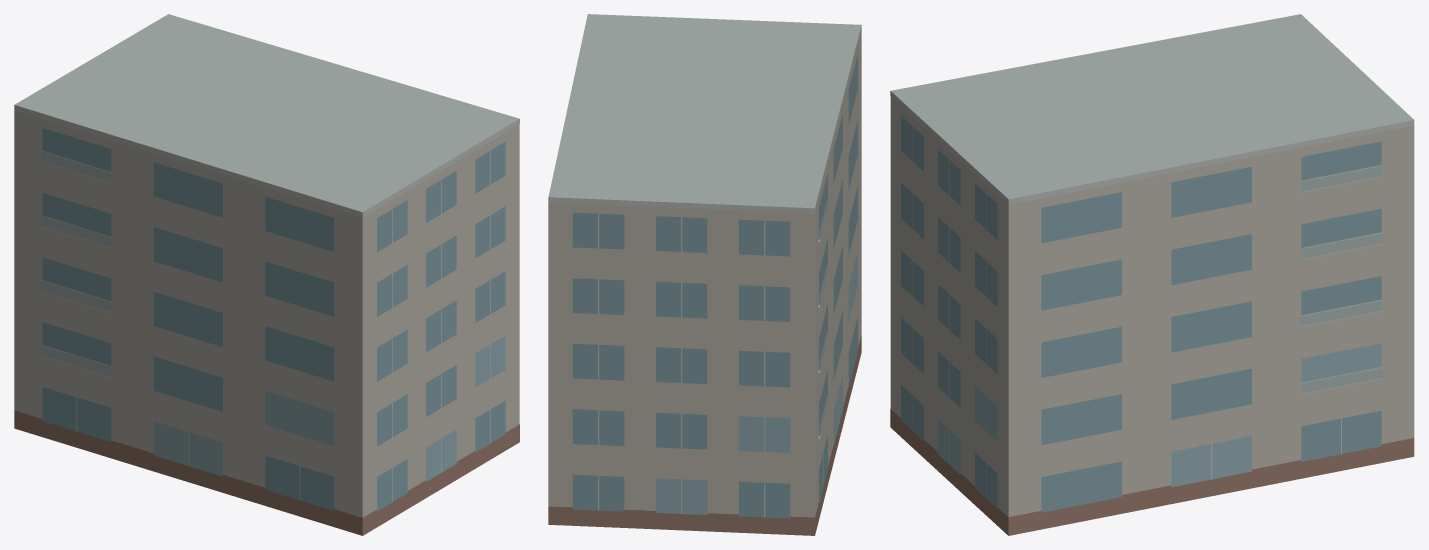
File: survey-upis-32996660.glb
The picture shows the model from 3 angles, left to right: view 1: azimuth 30°, elevation 25°; view 2: azimuth 150°, elevation 25°; view 3: azimuth 270°, elevation 25°; orthographic projection. The views are drawn at different scales.
Visible parts, largest first — view 1: survey-upis-32996660.tmp; view 2: survey-upis-32996660.tmp; view 3: survey-upis-32996660.tmp.
Boxes of the visible parts, x1,y1,x2,y2 form: survey-upis-32996660.tmp: (14, 14, 519, 535); survey-upis-32996660.tmp: (548, 14, 861, 535); survey-upis-32996660.tmp: (890, 14, 1414, 535).
Bounding box in the file's own units: 17.29 × 14.64 × 20.66.
